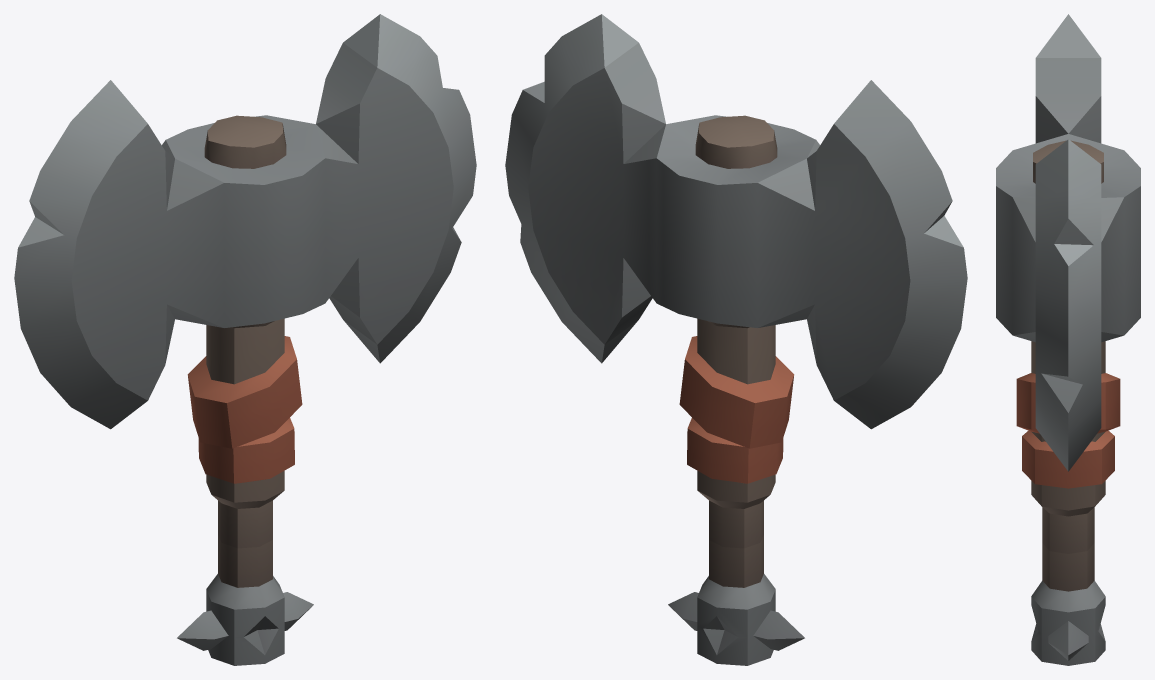
The model's file is Skeleton_Axe.glb.
The picture shows the model from 3 angles, left to right: view 1: azimuth 30°, elevation 25°; view 2: azimuth 150°, elevation 25°; view 3: azimuth 270°, elevation 25°; orthographic projection. The views are drawn at different scales.
Parts seen in each view (by area): view 1: Skeleton_Axe; view 2: Skeleton_Axe; view 3: Skeleton_Axe.
Boxes of the visible parts, x1,y1,x2,y2 form: Skeleton_Axe: (14,14,476,665); Skeleton_Axe: (505,14,967,665); Skeleton_Axe: (996,14,1140,665).
Size of the model in its own units: 0.9885 by 1.25 by 0.2818.
1 material, 1 textured.
